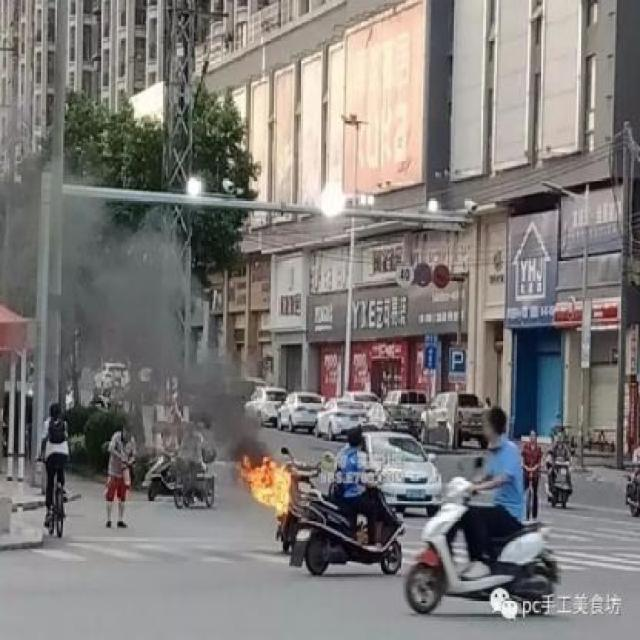Fire: (239, 448, 290, 514)
Smoke: (176, 356, 267, 467)
